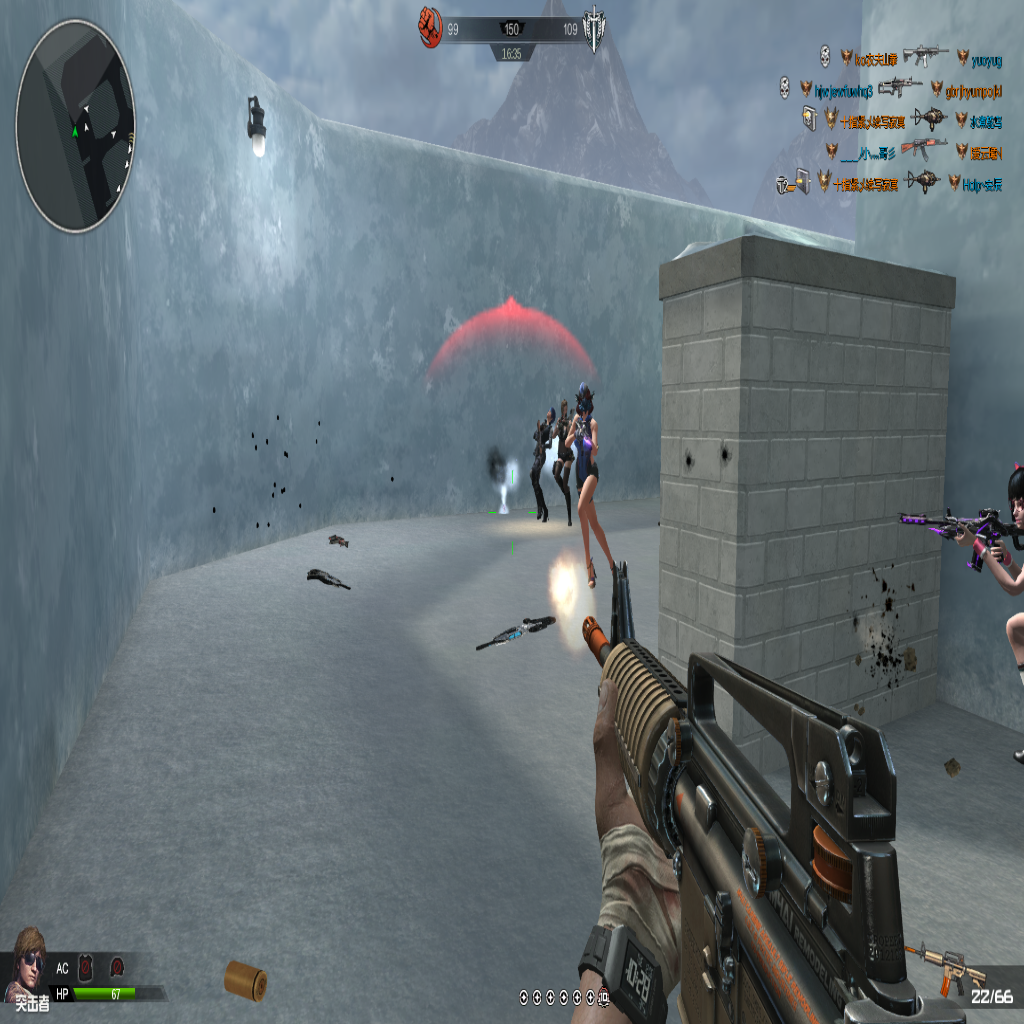ct: (575, 390, 615, 600), (554, 394, 576, 529), (530, 410, 551, 521)
